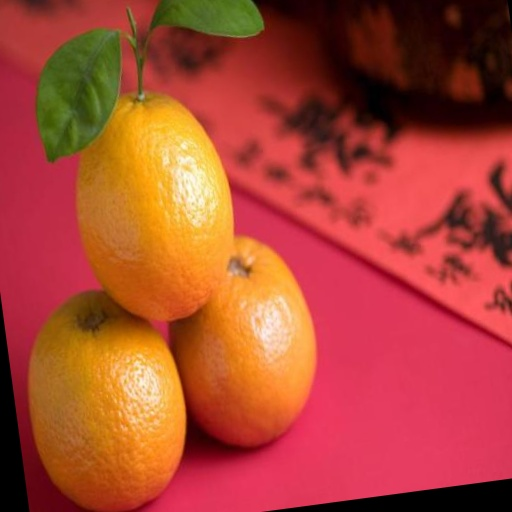fruit: (77, 94, 233, 320), (28, 292, 186, 512), (170, 237, 316, 447)
